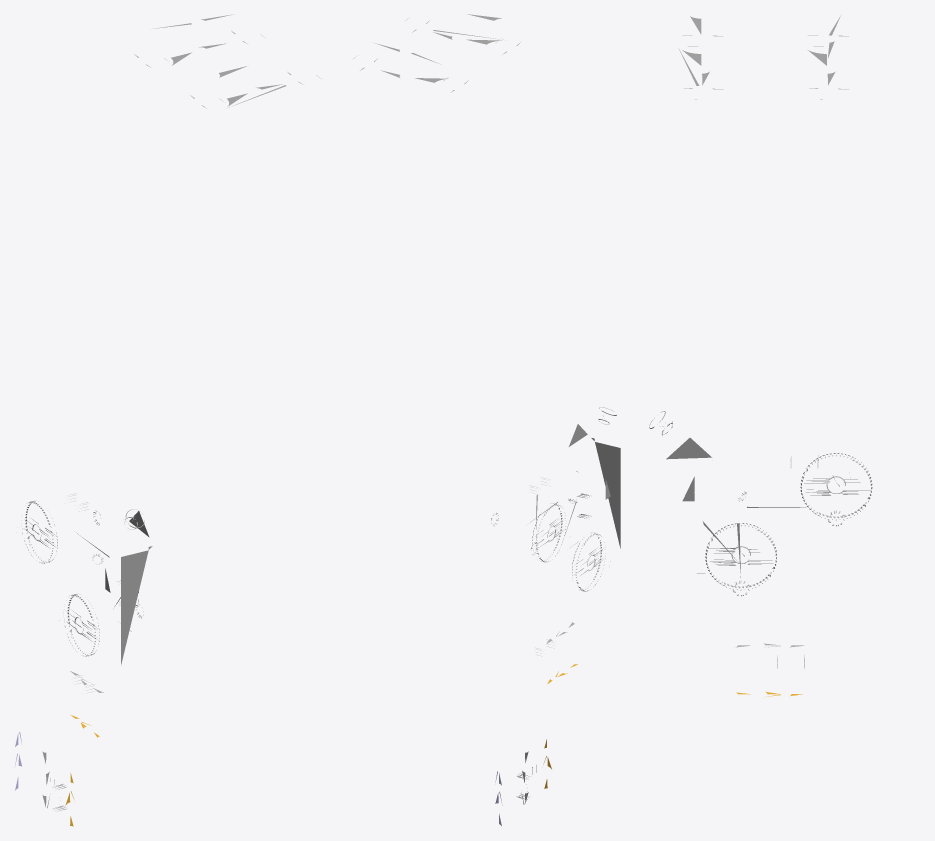
3 views of the same model, side by side, from view 1: azimuth 30°, elevation 25°; view 2: azimuth 150°, elevation 25°; view 3: azimuth 270°, elevation 25° (orthographic). The views are drawn at different scales.
Parts seen in each view (by area): view 1: F19721000063102000130_001_zb_ub_auflage_30_fa (×2); view 2: F19721000063102000130_001_zb_ub_auflage_30_fa (×2); view 3: F19721000063102000130_001_zb_ub_auflage_30_fa (×2).
Boxes of the visible parts, <box> form: F19721000063102000130_001_zb_ub_auflage_30_fa (×2): <box>22,14,320,811</box>; F19721000063102000130_001_zb_ub_auflage_30_fa (×2): <box>353,14,620,804</box>; F19721000063102000130_001_zb_ub_auflage_30_fa (×2): <box>649,16,872,668</box>.
Size of the model in its own units: 168 by 151 by 530.
